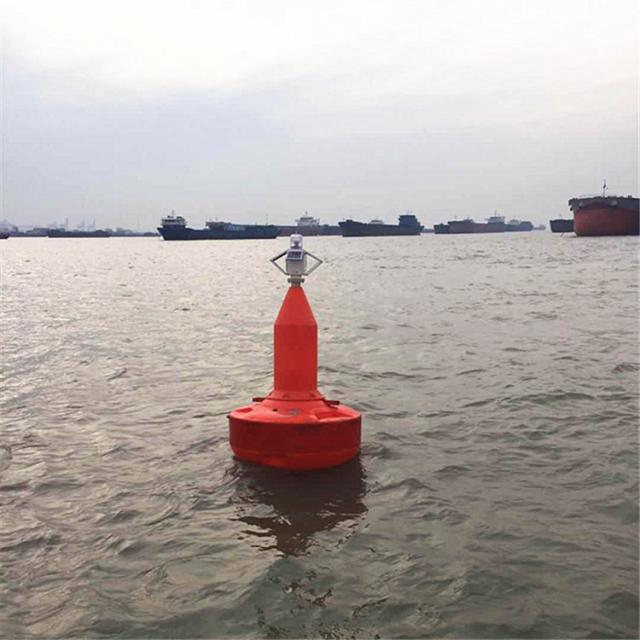buoy: (225, 231, 367, 464)
